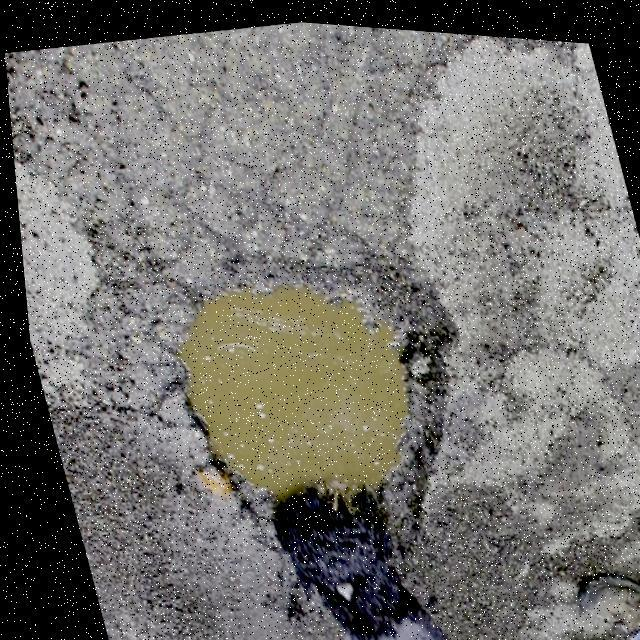pothole: (148, 235, 472, 562)
